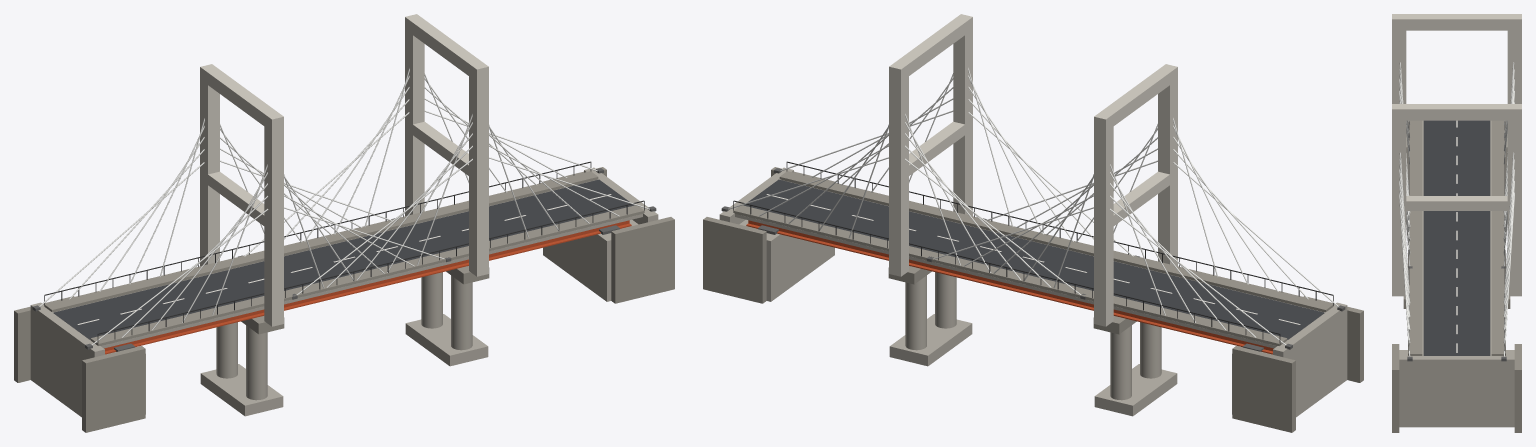
The model's file is most-uklad.glb.
3 renders of one model, left to right at view 1: azimuth 30°, elevation 25°; view 2: azimuth 150°, elevation 25°; view 3: azimuth 270°, elevation 25°, orthographic. The views are drawn at different scales.
Parts seen in each view (by area): view 1: 10 Pomost z jezdnią, 01 Przyczółek lewy, 09 Pylon prawy, 08 Pylon lewy, 02 Przyczółek prawy, 11 Wanty lewe, 12 Wanty prawe, 03 Filar lewy, 04 Filar prawy, 06 Przęsło środkowe, 05 Przęsło lewe, 07 Przęsło prawe; view 2: 10 Pomost z jezdnią, 01 Przyczółek lewy, 09 Pylon prawy, 08 Pylon lewy, 02 Przyczółek prawy, 11 Wanty lewe, 12 Wanty prawe, 03 Filar lewy, 04 Filar prawy, 06 Przęsło środkowe, 05 Przęsło lewe, 07 Przęsło prawe; view 3: 10 Pomost z jezdnią, 02 Przyczółek prawy, 09 Pylon prawy, 08 Pylon lewy, 12 Wanty prawe, 11 Wanty lewe.
Part boxes in pixels (x1,y1,x2,y2): 10 Pomost z jezdnią: (44,161,644,348); 01 Przyczółek lewy: (14,296,145,432); 09 Pylon prawy: (405,14,488,276); 08 Pylon lewy: (200,64,283,326); 02 Przyczółek prawy: (543,167,674,303); 11 Wanty lewe: (32,118,451,349); 12 Wanty prawe: (238,68,656,299); 03 Filar lewy: (200,316,284,416); 04 Filar prawy: (405,266,489,366); 06 Przęsło środkowe: (262,260,468,313); 05 Przęsło lewe: (104,310,264,354); 07 Przęsło prawe: (467,220,631,263); 10 Pomost z jezdnią: (733,161,1333,348); 01 Przyczółek lewy: (1232,296,1363,432); 09 Pylon prawy: (889,14,972,276); 08 Pylon lewy: (1094,64,1177,326); 02 Przyczółek prawy: (703,167,834,303); 11 Wanty lewe: (926,118,1345,349); 12 Wanty prawe: (721,68,1139,299); 03 Filar lewy: (1093,316,1177,416); 04 Filar prawy: (888,266,972,366); 06 Przęsło środkowe: (909,260,1115,313); 05 Przęsło lewe: (1113,310,1273,354); 07 Przęsło prawe: (746,220,910,263); 10 Pomost z jezdnią: (1408,120,1505,355); 02 Przyczółek prawy: (1392,344,1521,432); 09 Pylon prawy: (1392,104,1521,296); 08 Pylon lewy: (1392,14,1521,103); 12 Wanty prawe: (1399,152,1514,361); 11 Wanty lewe: (1399,62,1514,268).
Bounding box in the file's own units: 0.414 × 0.204 × 0.0876.
